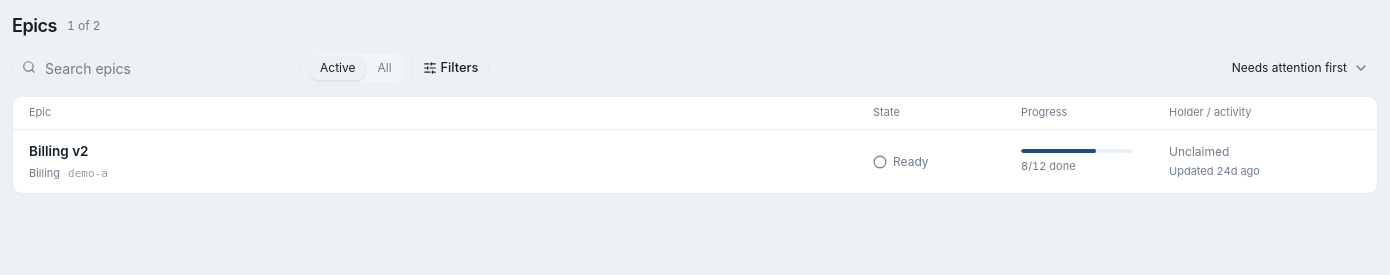
EpicsView › searches epics, toggles completed work and explains no matching results
Check: the button "Finished" is not shown
Click the button "All" at (385, 68), box [368, 56, 402, 80]
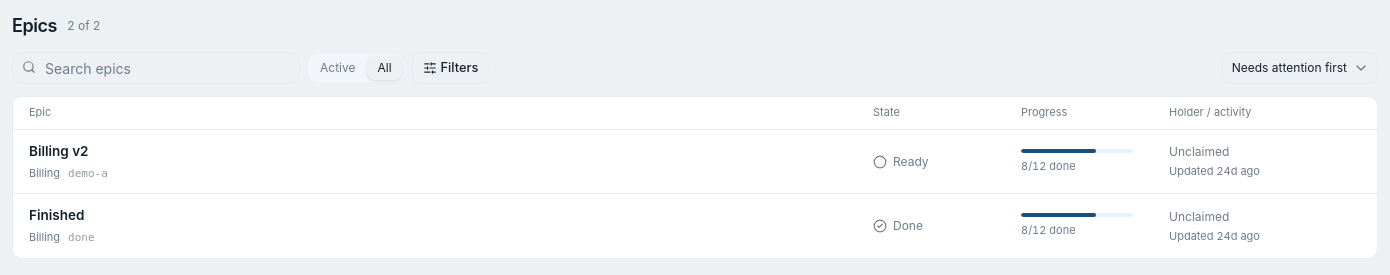
Check: the button "Finished" is shown, box [13, 194, 1377, 258]
Type "missing" into the search field at (156, 68), box [12, 52, 300, 84]
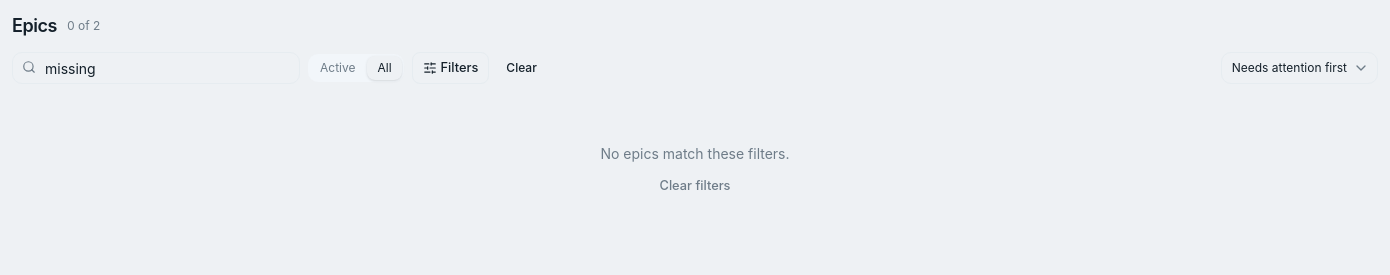
Check: the text "No epics match these filters." is shown, box [600, 145, 790, 162]
Click the button "Clear filters" at (695, 186), box [648, 172, 742, 200]
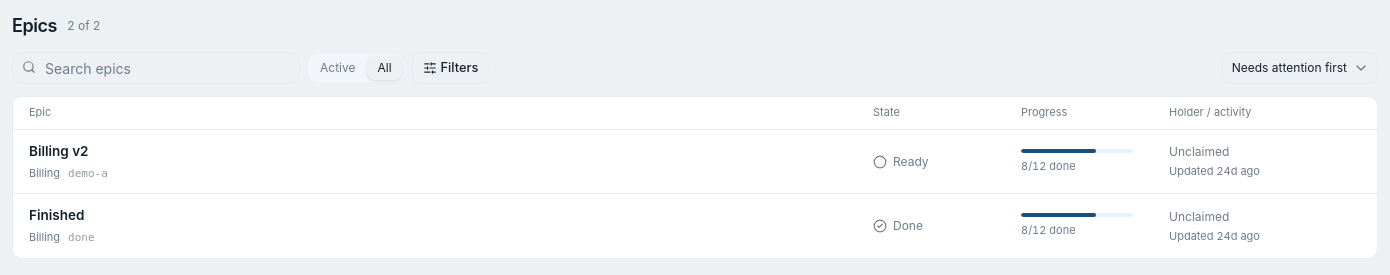
Check: the button "Finished" is shown, box [13, 194, 1377, 258]
